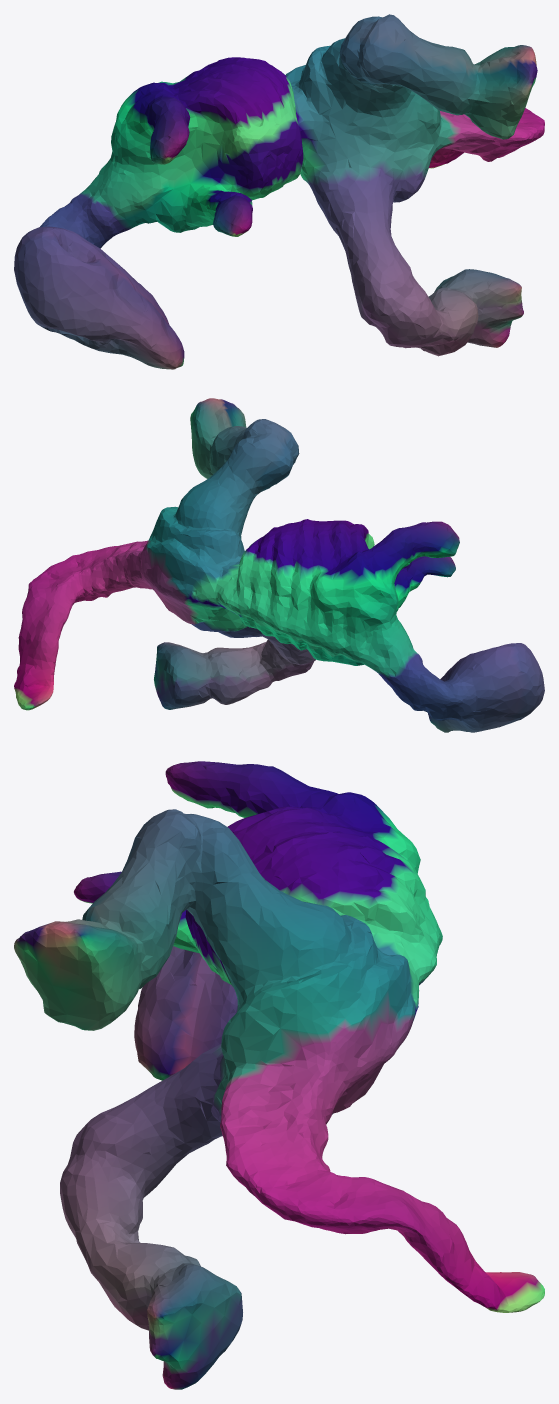
Rendered from dino_skel-1.off.obj.
The picture shows the model from 3 angles, top to bottom: view 1: azimuth 30°, elevation 25°; view 2: azimuth 150°, elevation 25°; view 3: azimuth 270°, elevation 25°; orthographic projection. The views are drawn at different scales.
Bounding box in the file's own units: 1.63 × 1.02 × 0.9789.
